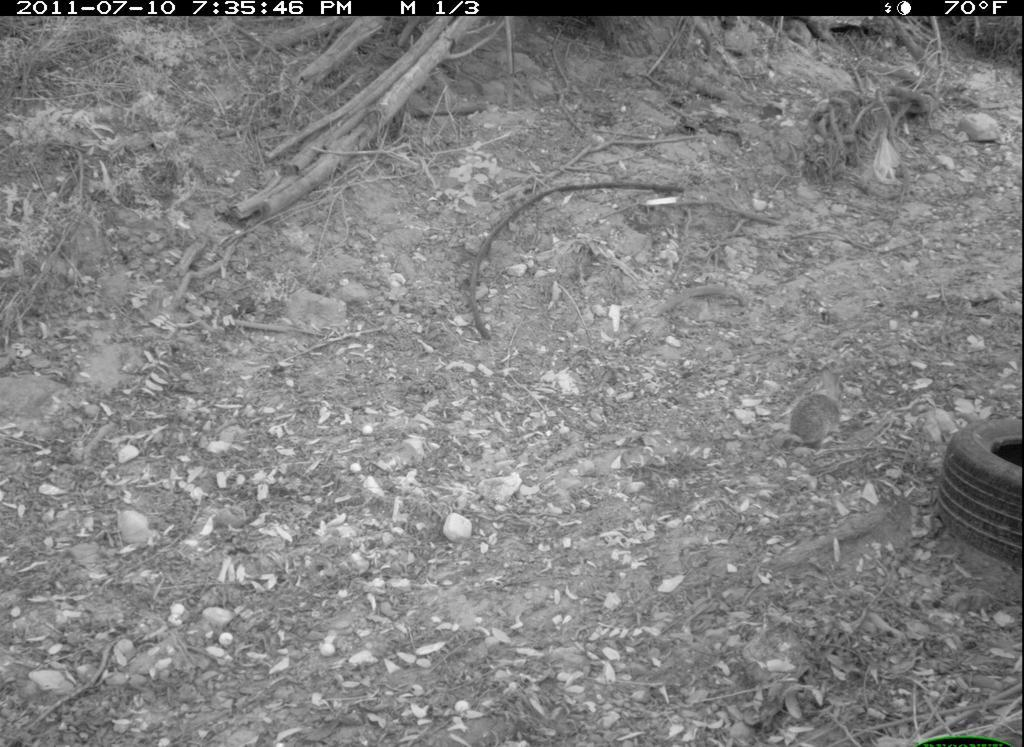rabbit: (783, 359, 863, 469)
